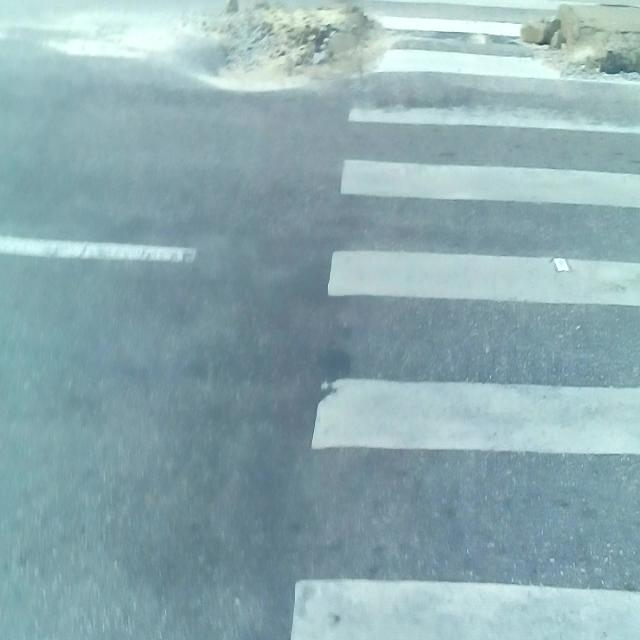crosswalk: (266, 0, 640, 640)
